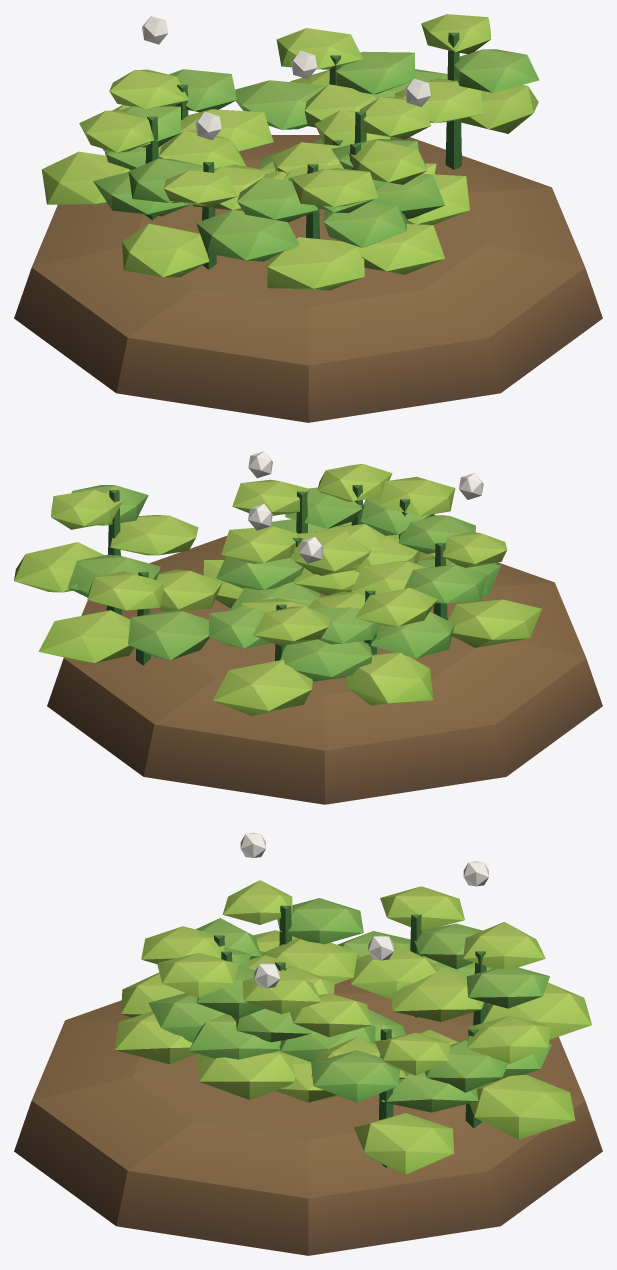
Rendered from res_herb_mint.glb.
The picture shows the model from 3 angles, top to bottom: view 1: azimuth 30°, elevation 25°; view 2: azimuth 150°, elevation 25°; view 3: azimuth 270°, elevation 25°; orthographic projection. The views are drawn at different scales.
Parts seen in each view (by area): view 1: res_herb_mint; view 2: res_herb_mint; view 3: res_herb_mint.
Boxes of the visible parts, left/top/right/bottom form: res_herb_mint: left=14, top=14, right=602, bottom=422; res_herb_mint: left=14, top=451, right=602, bottom=804; res_herb_mint: left=14, top=833, right=602, bottom=1255.
Size of the model in its own units: 4.44 by 1.89 by 4.33.
Materials: 1 (1 with a texture image).
